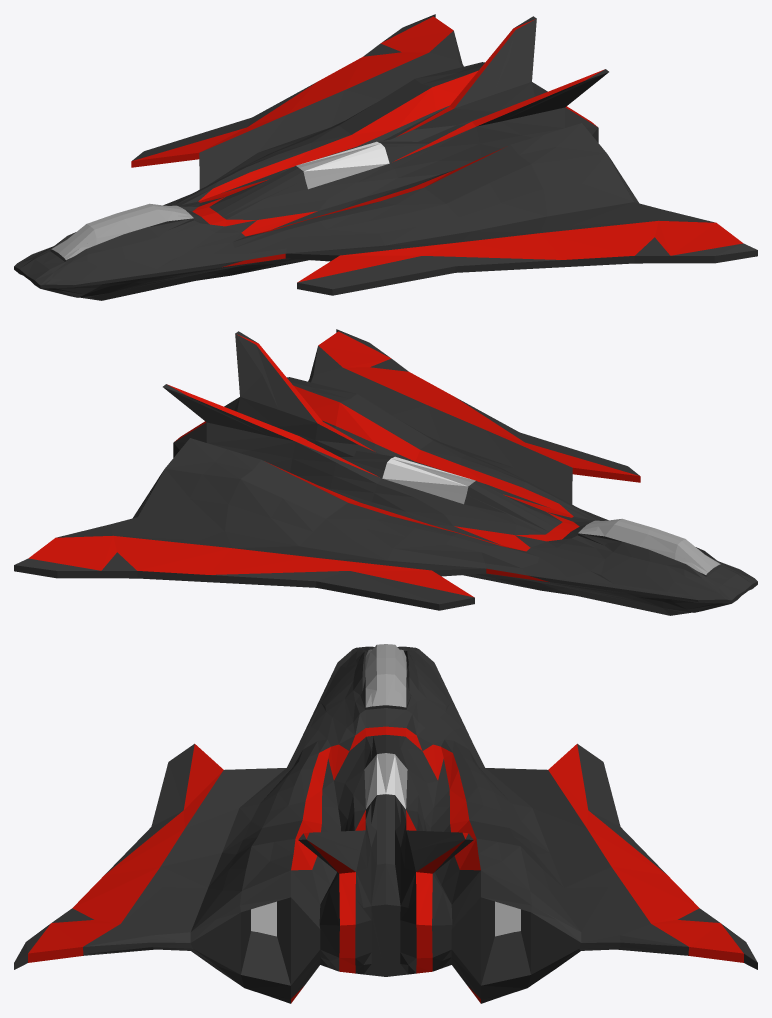
File: ship 1.fbx
3 renders of one model, top to bottom at view 1: azimuth 30°, elevation 25°; view 2: azimuth 150°, elevation 25°; view 3: azimuth 270°, elevation 25°, orthographic. The views are drawn at different scales.
Parts seen in each view (by area): view 1: ship; view 2: ship; view 3: ship.
Boxes of the visible parts, x1=… form: ship: x1=14, y1=14, x2=757, y2=300; ship: x1=14, y1=329, x2=757, y2=615; ship: x1=14, y1=644, x2=757, y2=1003.
Size of the model in its own units: 347 by 91.64 by 340.
